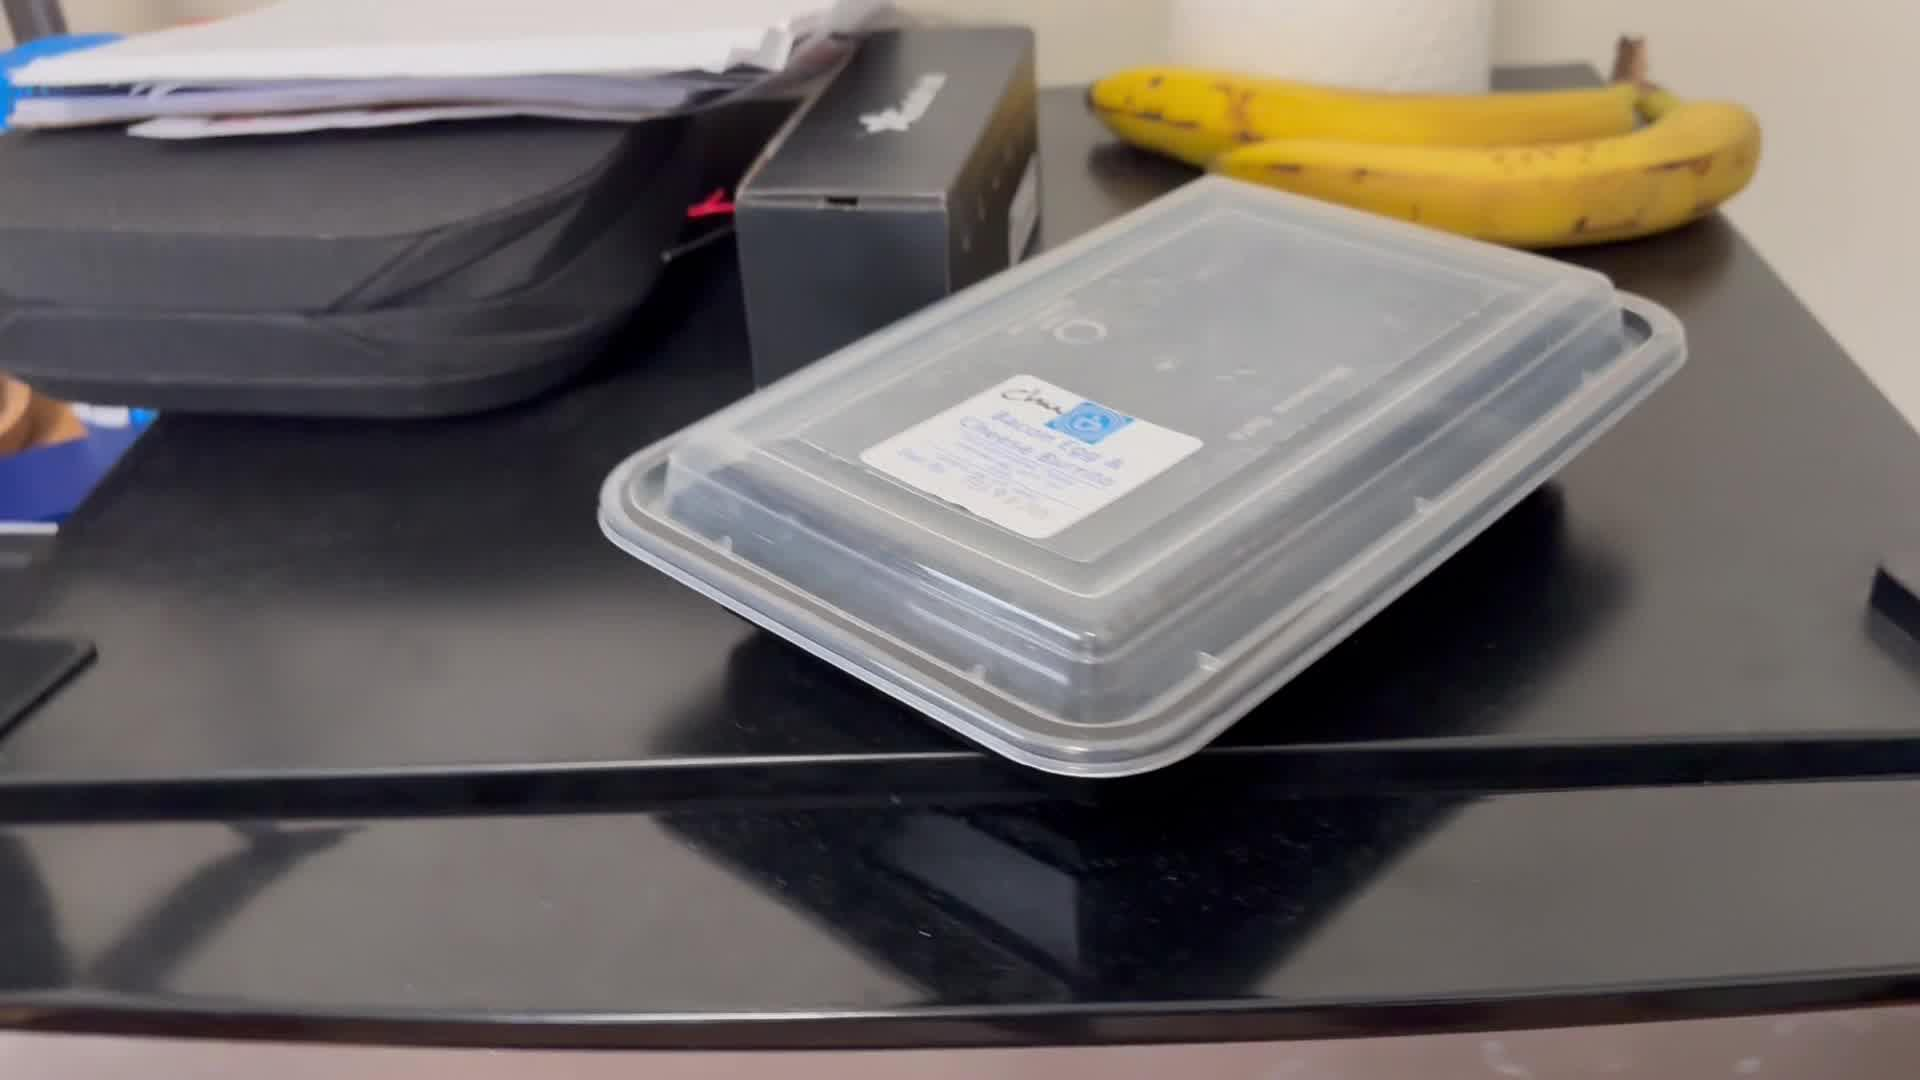lp_cup_lids: (584, 166, 1700, 822)
